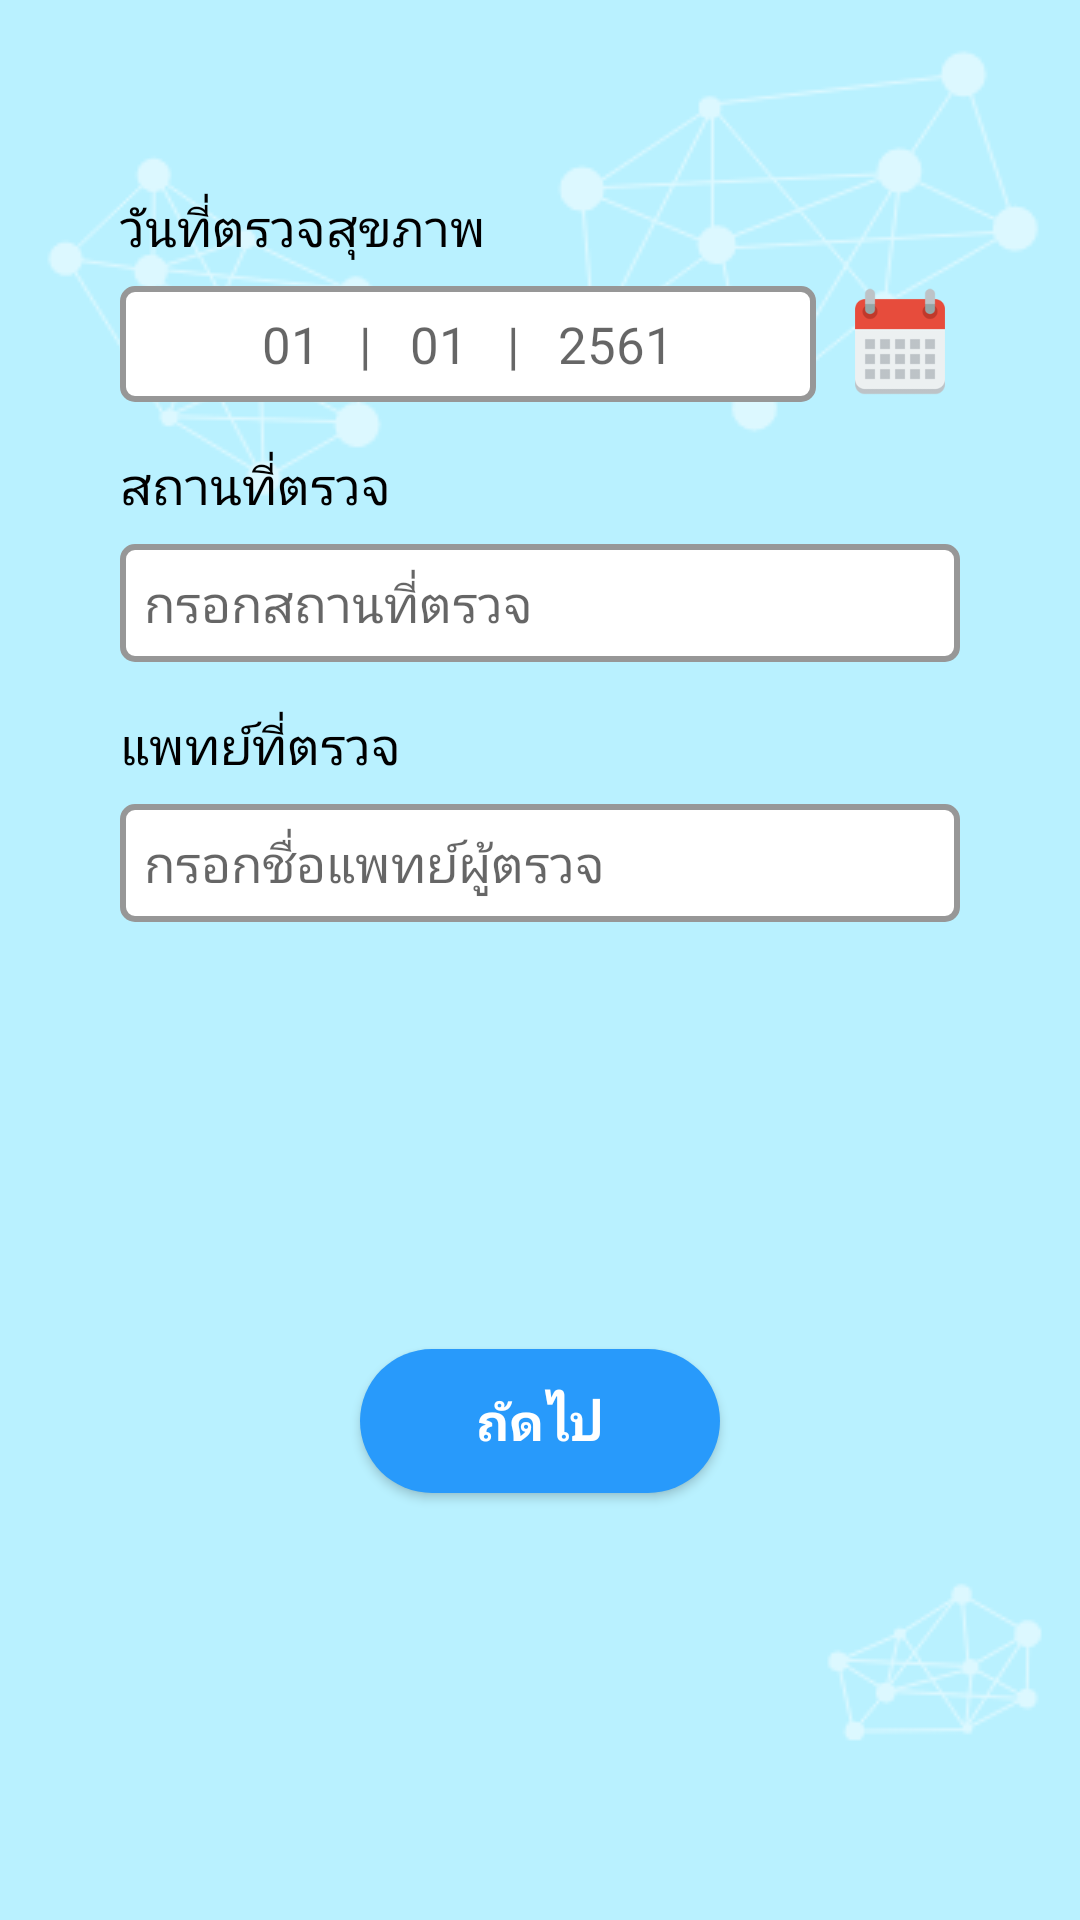

Screen size 1080px x 1920px. Icon name, then its box in pixels as (x1, y1, x2, y2):
calendar: (841, 284, 945, 394)
